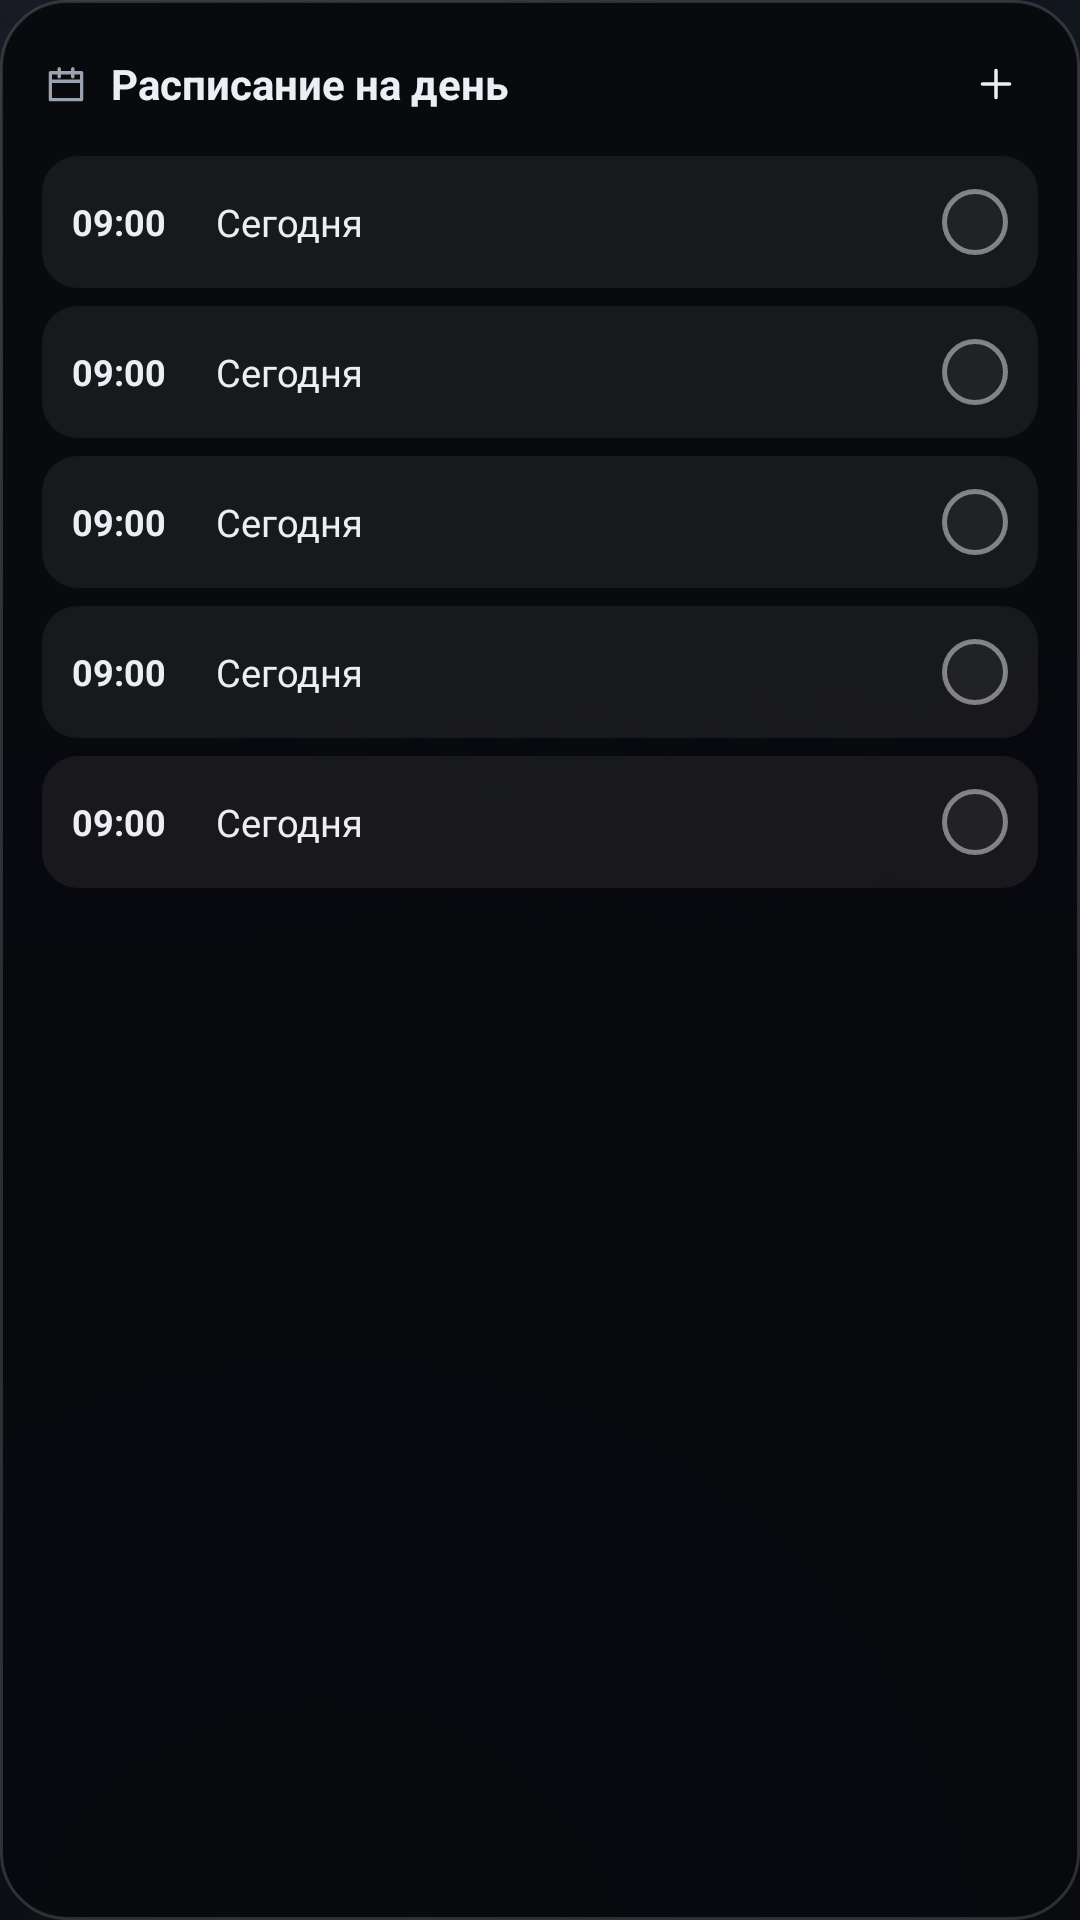

Point at icon controls on the screen. Image size 1080w x 1920h, points as [x,y].
Новое напоминание: [996,84]
